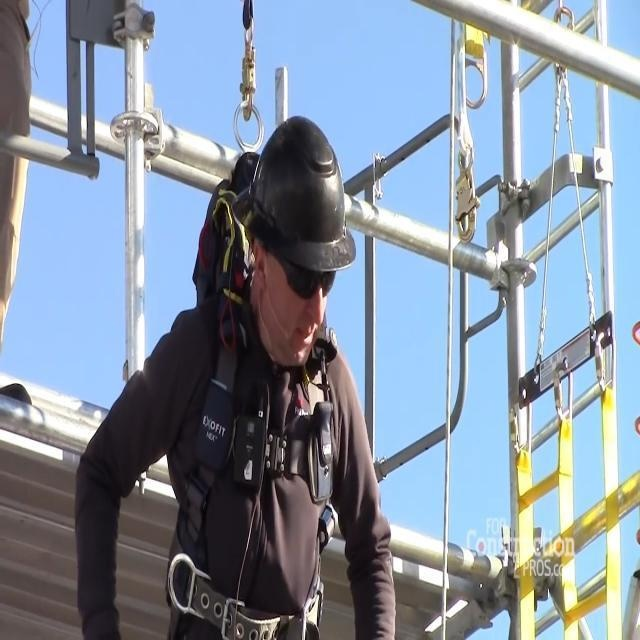Arnes_seguridad: (162, 145, 342, 640)
